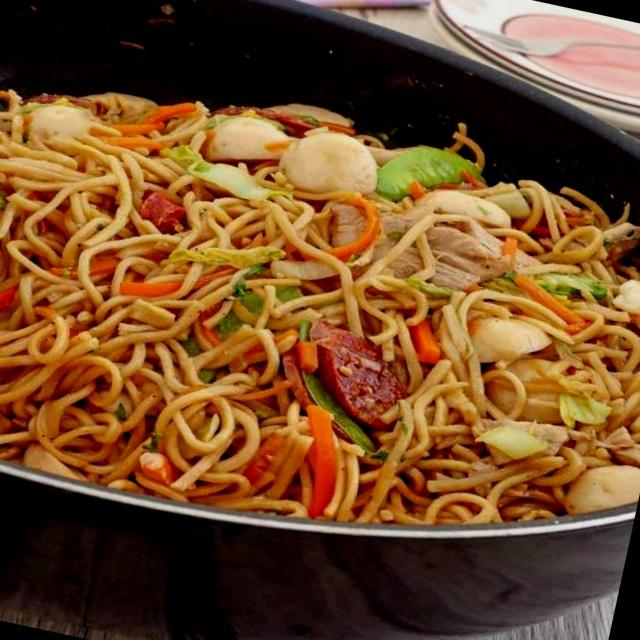pancit bihon: (0, 94, 639, 516)
